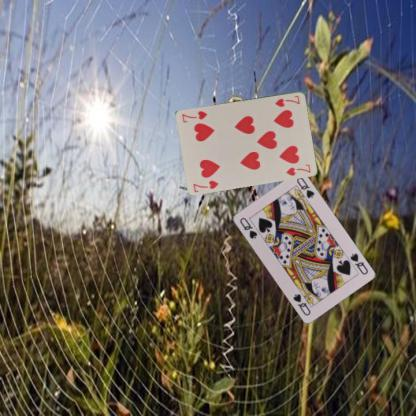7h: (191, 177, 220, 193), (273, 92, 301, 108)
Qs: (347, 250, 369, 276), (237, 215, 259, 240)
